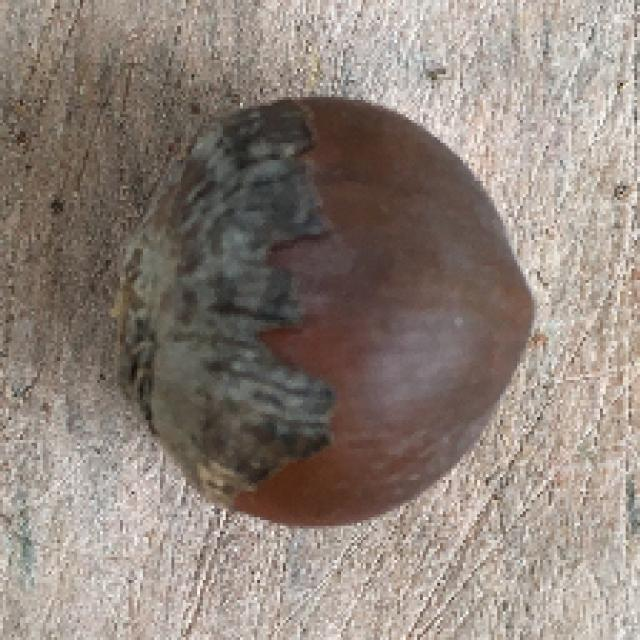damagedHazelnut: (102, 90, 539, 540)
